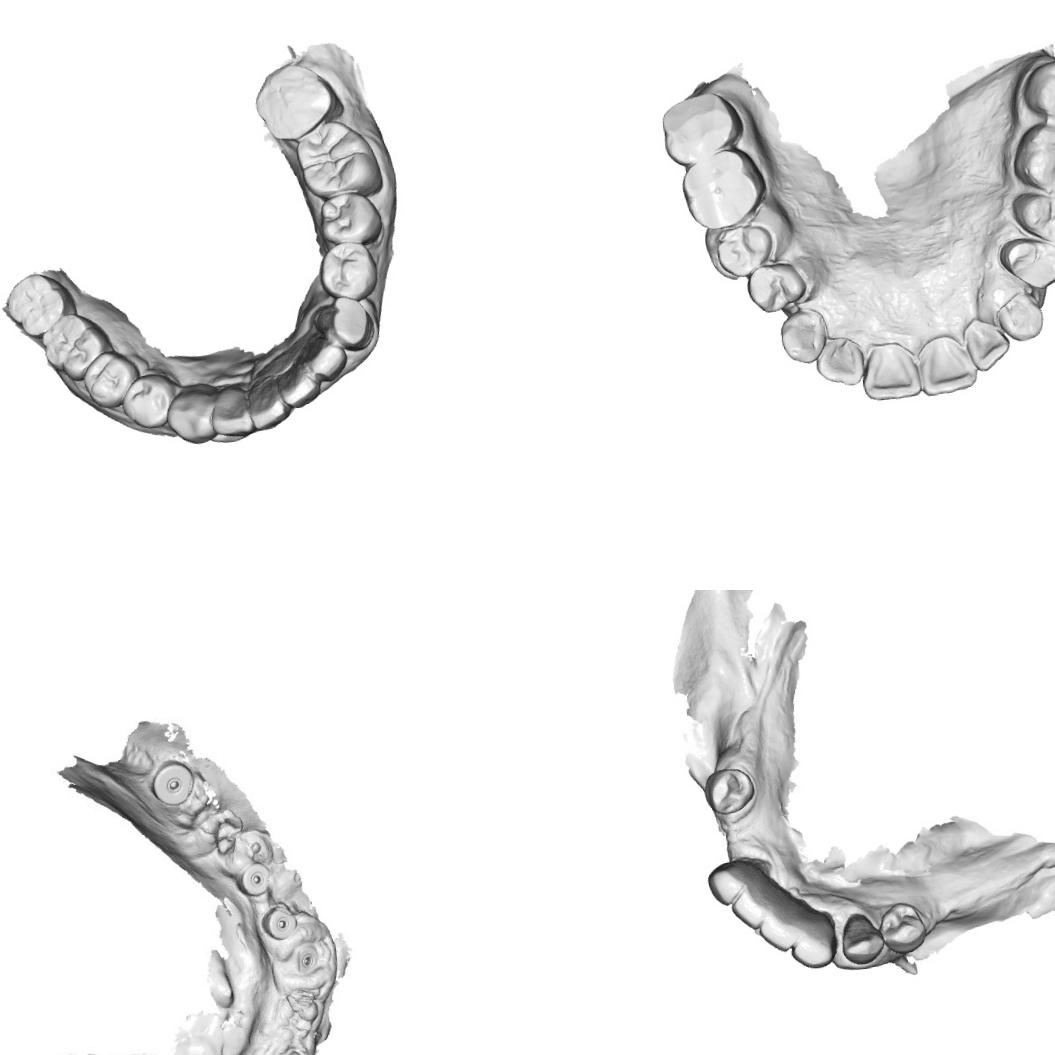canine: (163, 379, 223, 448), (318, 291, 380, 357), (776, 307, 838, 367), (835, 909, 890, 969), (996, 285, 1048, 346)
implant: (151, 758, 199, 813), (236, 857, 278, 902), (256, 903, 300, 943), (291, 944, 330, 979), (270, 1047, 309, 1055)
incisor: (914, 328, 979, 398), (856, 337, 920, 407), (703, 854, 764, 909), (786, 907, 838, 971), (811, 334, 869, 390), (243, 368, 292, 433), (274, 353, 326, 413), (962, 314, 1014, 374), (209, 382, 256, 442), (752, 901, 804, 955), (302, 334, 352, 387), (727, 884, 781, 933)
molar: (248, 56, 348, 148), (678, 141, 776, 233), (292, 116, 386, 204), (655, 84, 749, 170), (35, 308, 118, 388), (1, 269, 80, 340), (1008, 115, 1055, 204), (1016, 51, 1055, 136)
premolar: (315, 238, 384, 308), (708, 214, 779, 282), (314, 188, 385, 248), (116, 370, 182, 434), (79, 346, 142, 412), (742, 258, 810, 317), (995, 232, 1055, 294), (699, 762, 760, 819), (876, 898, 932, 958), (1005, 186, 1055, 251)
